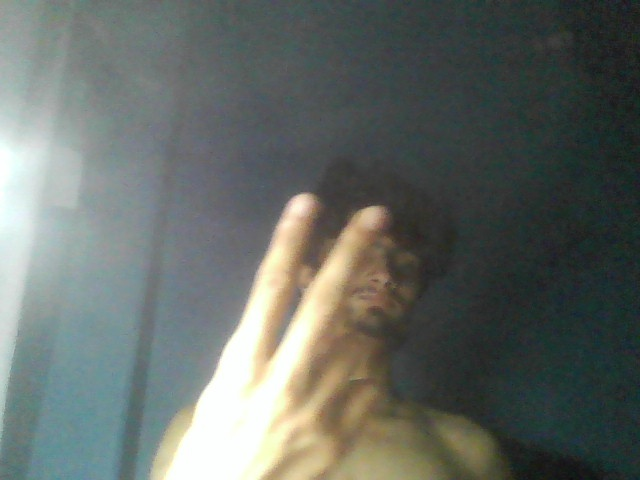LiveLong: (165, 184, 395, 475)
